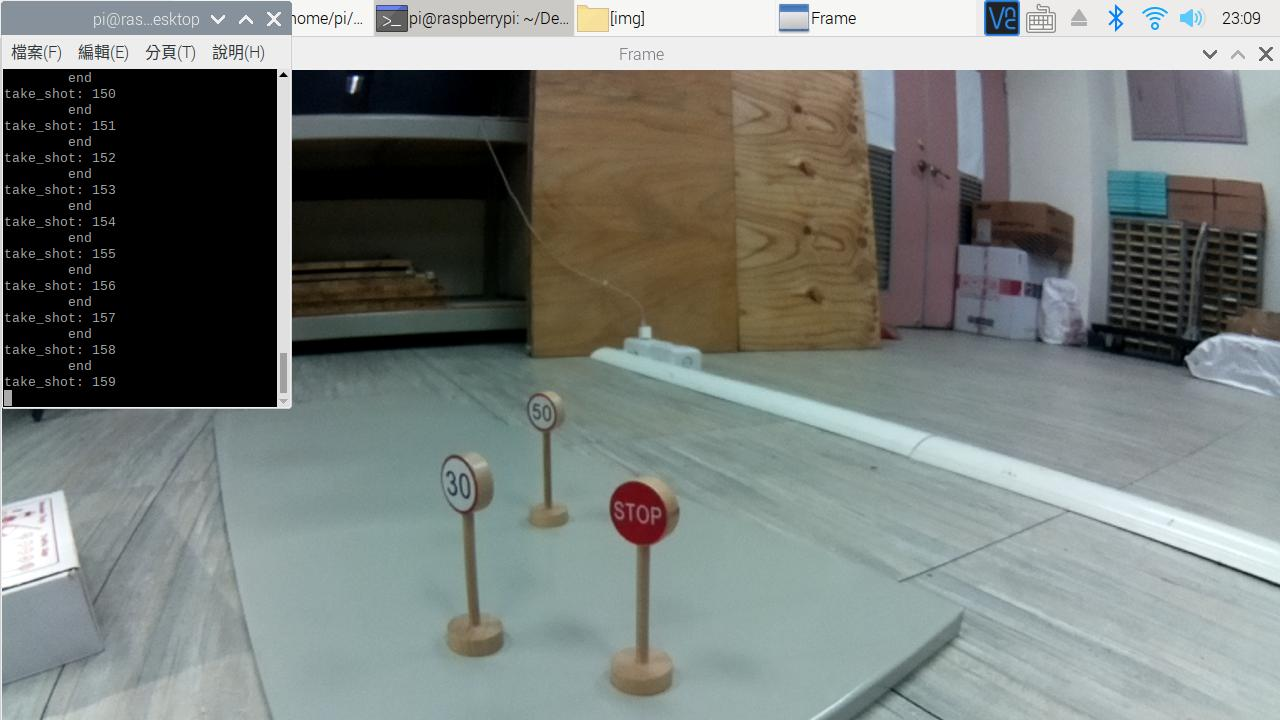Speed30: (431, 449, 508, 524)
Speed50: (509, 378, 577, 447)
Stop: (590, 466, 698, 548)
